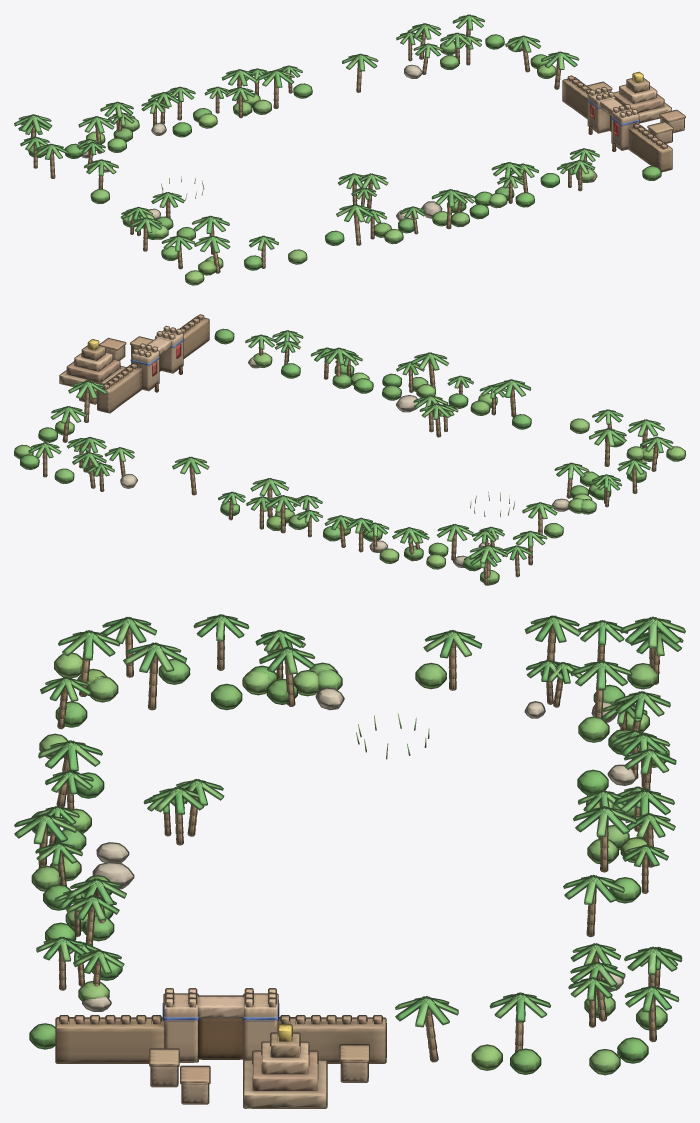
Rendered from river_delta.glb.
3 renders of one model, top to bottom at view 1: azimuth 30°, elevation 25°; view 2: azimuth 150°, elevation 25°; view 3: azimuth 270°, elevation 25°, orthographic. The views are drawn at different scales.
Parts seen in each view (by area): view 1: Baked_matte, Baked_matte_Outline; view 2: Baked_matte, Baked_matte_Outline; view 3: Baked_matte, Baked_matte_Outline.
Part boxes in pixels (x1,y1,x2,y2): Baked_matte: (14, 15, 685, 284); Baked_matte_Outline: (14, 14, 685, 285); Baked_matte: (14, 315, 685, 584); Baked_matte_Outline: (14, 314, 685, 585); Baked_matte: (15, 615, 684, 1107); Baked_matte_Outline: (14, 614, 685, 1108).
Size of the model in its own units: 41.45 by 3.15 by 26.14.
